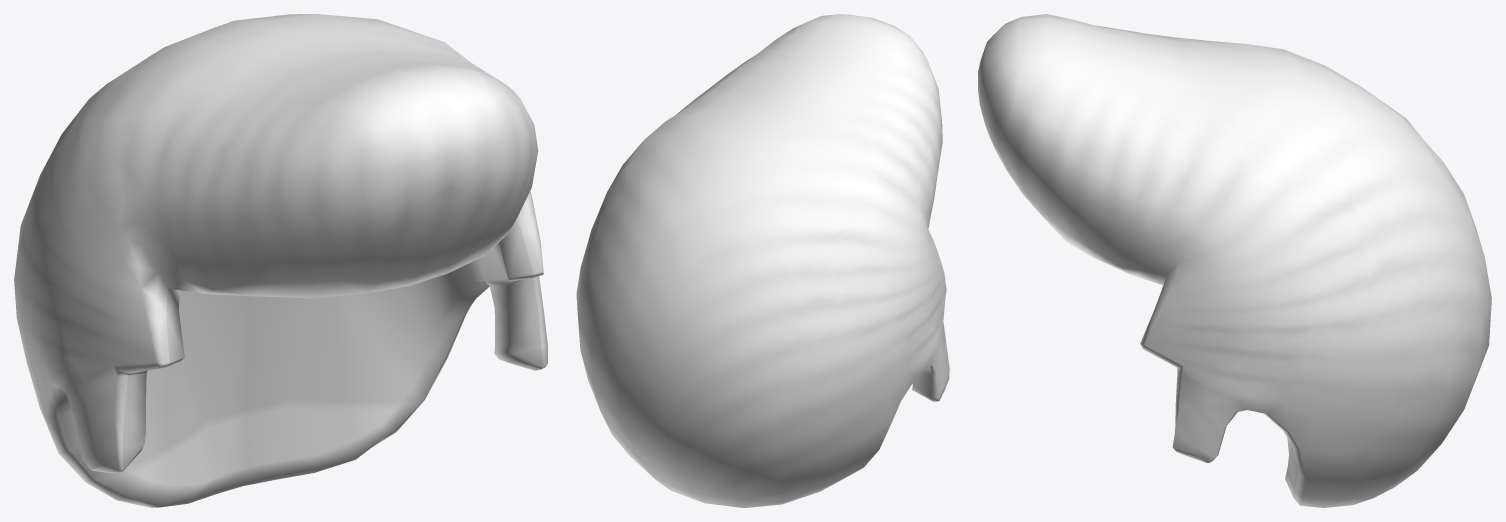
File: CapWigRegent.glb
3 renders of one model, left to right at view 1: azimuth 30°, elevation 25°; view 2: azimuth 150°, elevation 25°; view 3: azimuth 270°, elevation 25°, orthographic. The views are drawn at different scales.
Parts seen in each view (by area): view 1: Body__mCapHair; view 2: Body__mCapHair; view 3: Body__mCapHair.
Part boxes in pixels (bbox=[...]): Body__mCapHair: bbox=[14, 14, 547, 507]; Body__mCapHair: bbox=[576, 14, 949, 507]; Body__mCapHair: bbox=[978, 14, 1491, 507].
Size of the model in its own units: 6.86 by 7.77 by 7.99.
Materials: 1 (1 with a texture image).
